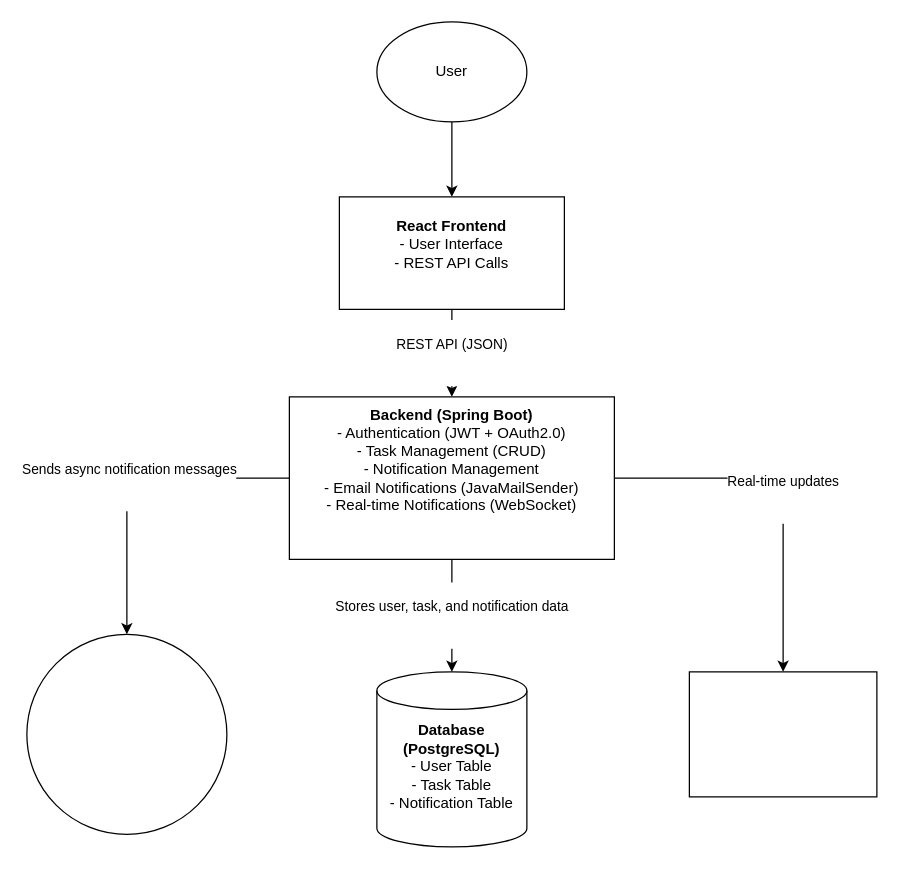
Image size: 899x869. Some labels were removed from this diagram. The centre of each missing label's shape, as x and y in pixels:
"RabbitMQ (Notification Queue) - Handles async notifications" goes at point 126,733.
"WebSocket (Real-time Notifications) - Push updates to connected users" goes at point 782,734.
